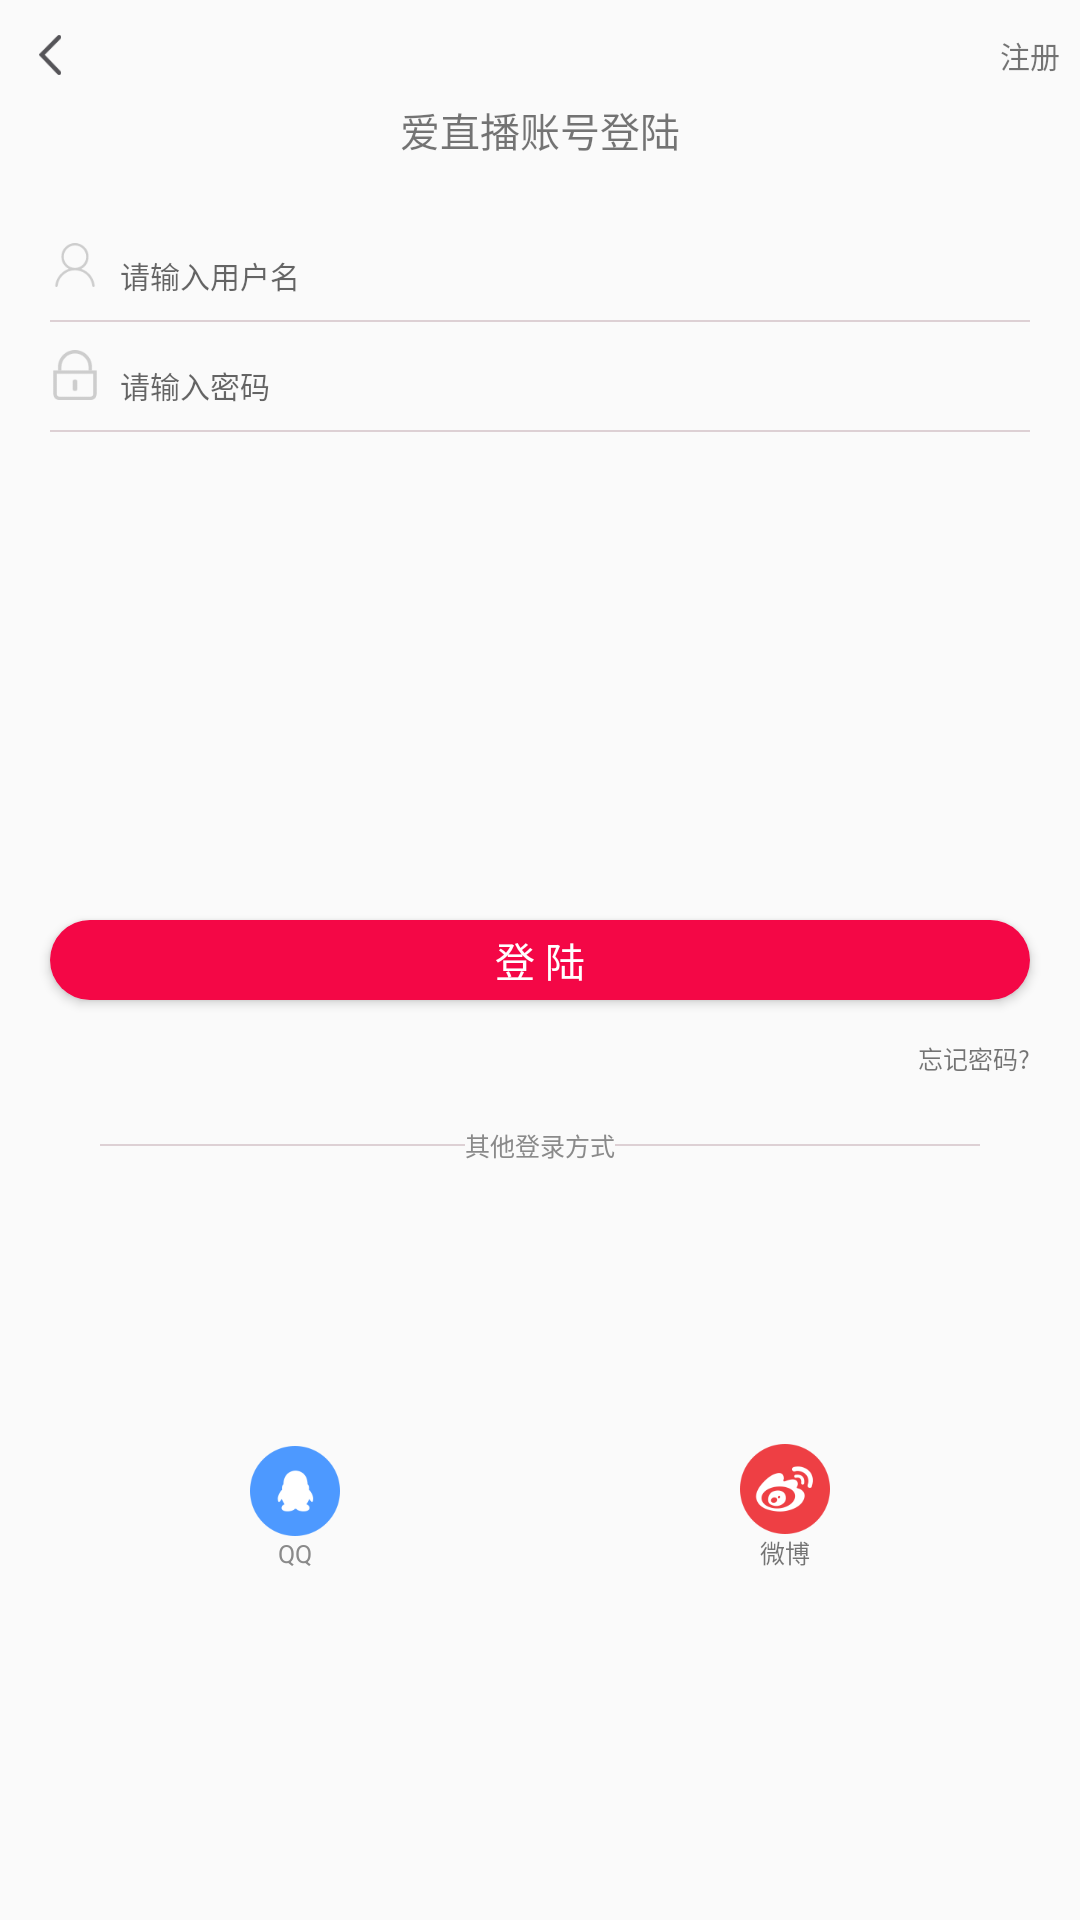

Screen size 1080*1920. Icon name, then its box in pixels as (x1, y1, x2, y2):
password: (53, 350, 97, 400)
title back: (39, 35, 61, 75)
user: (55, 243, 95, 287)
